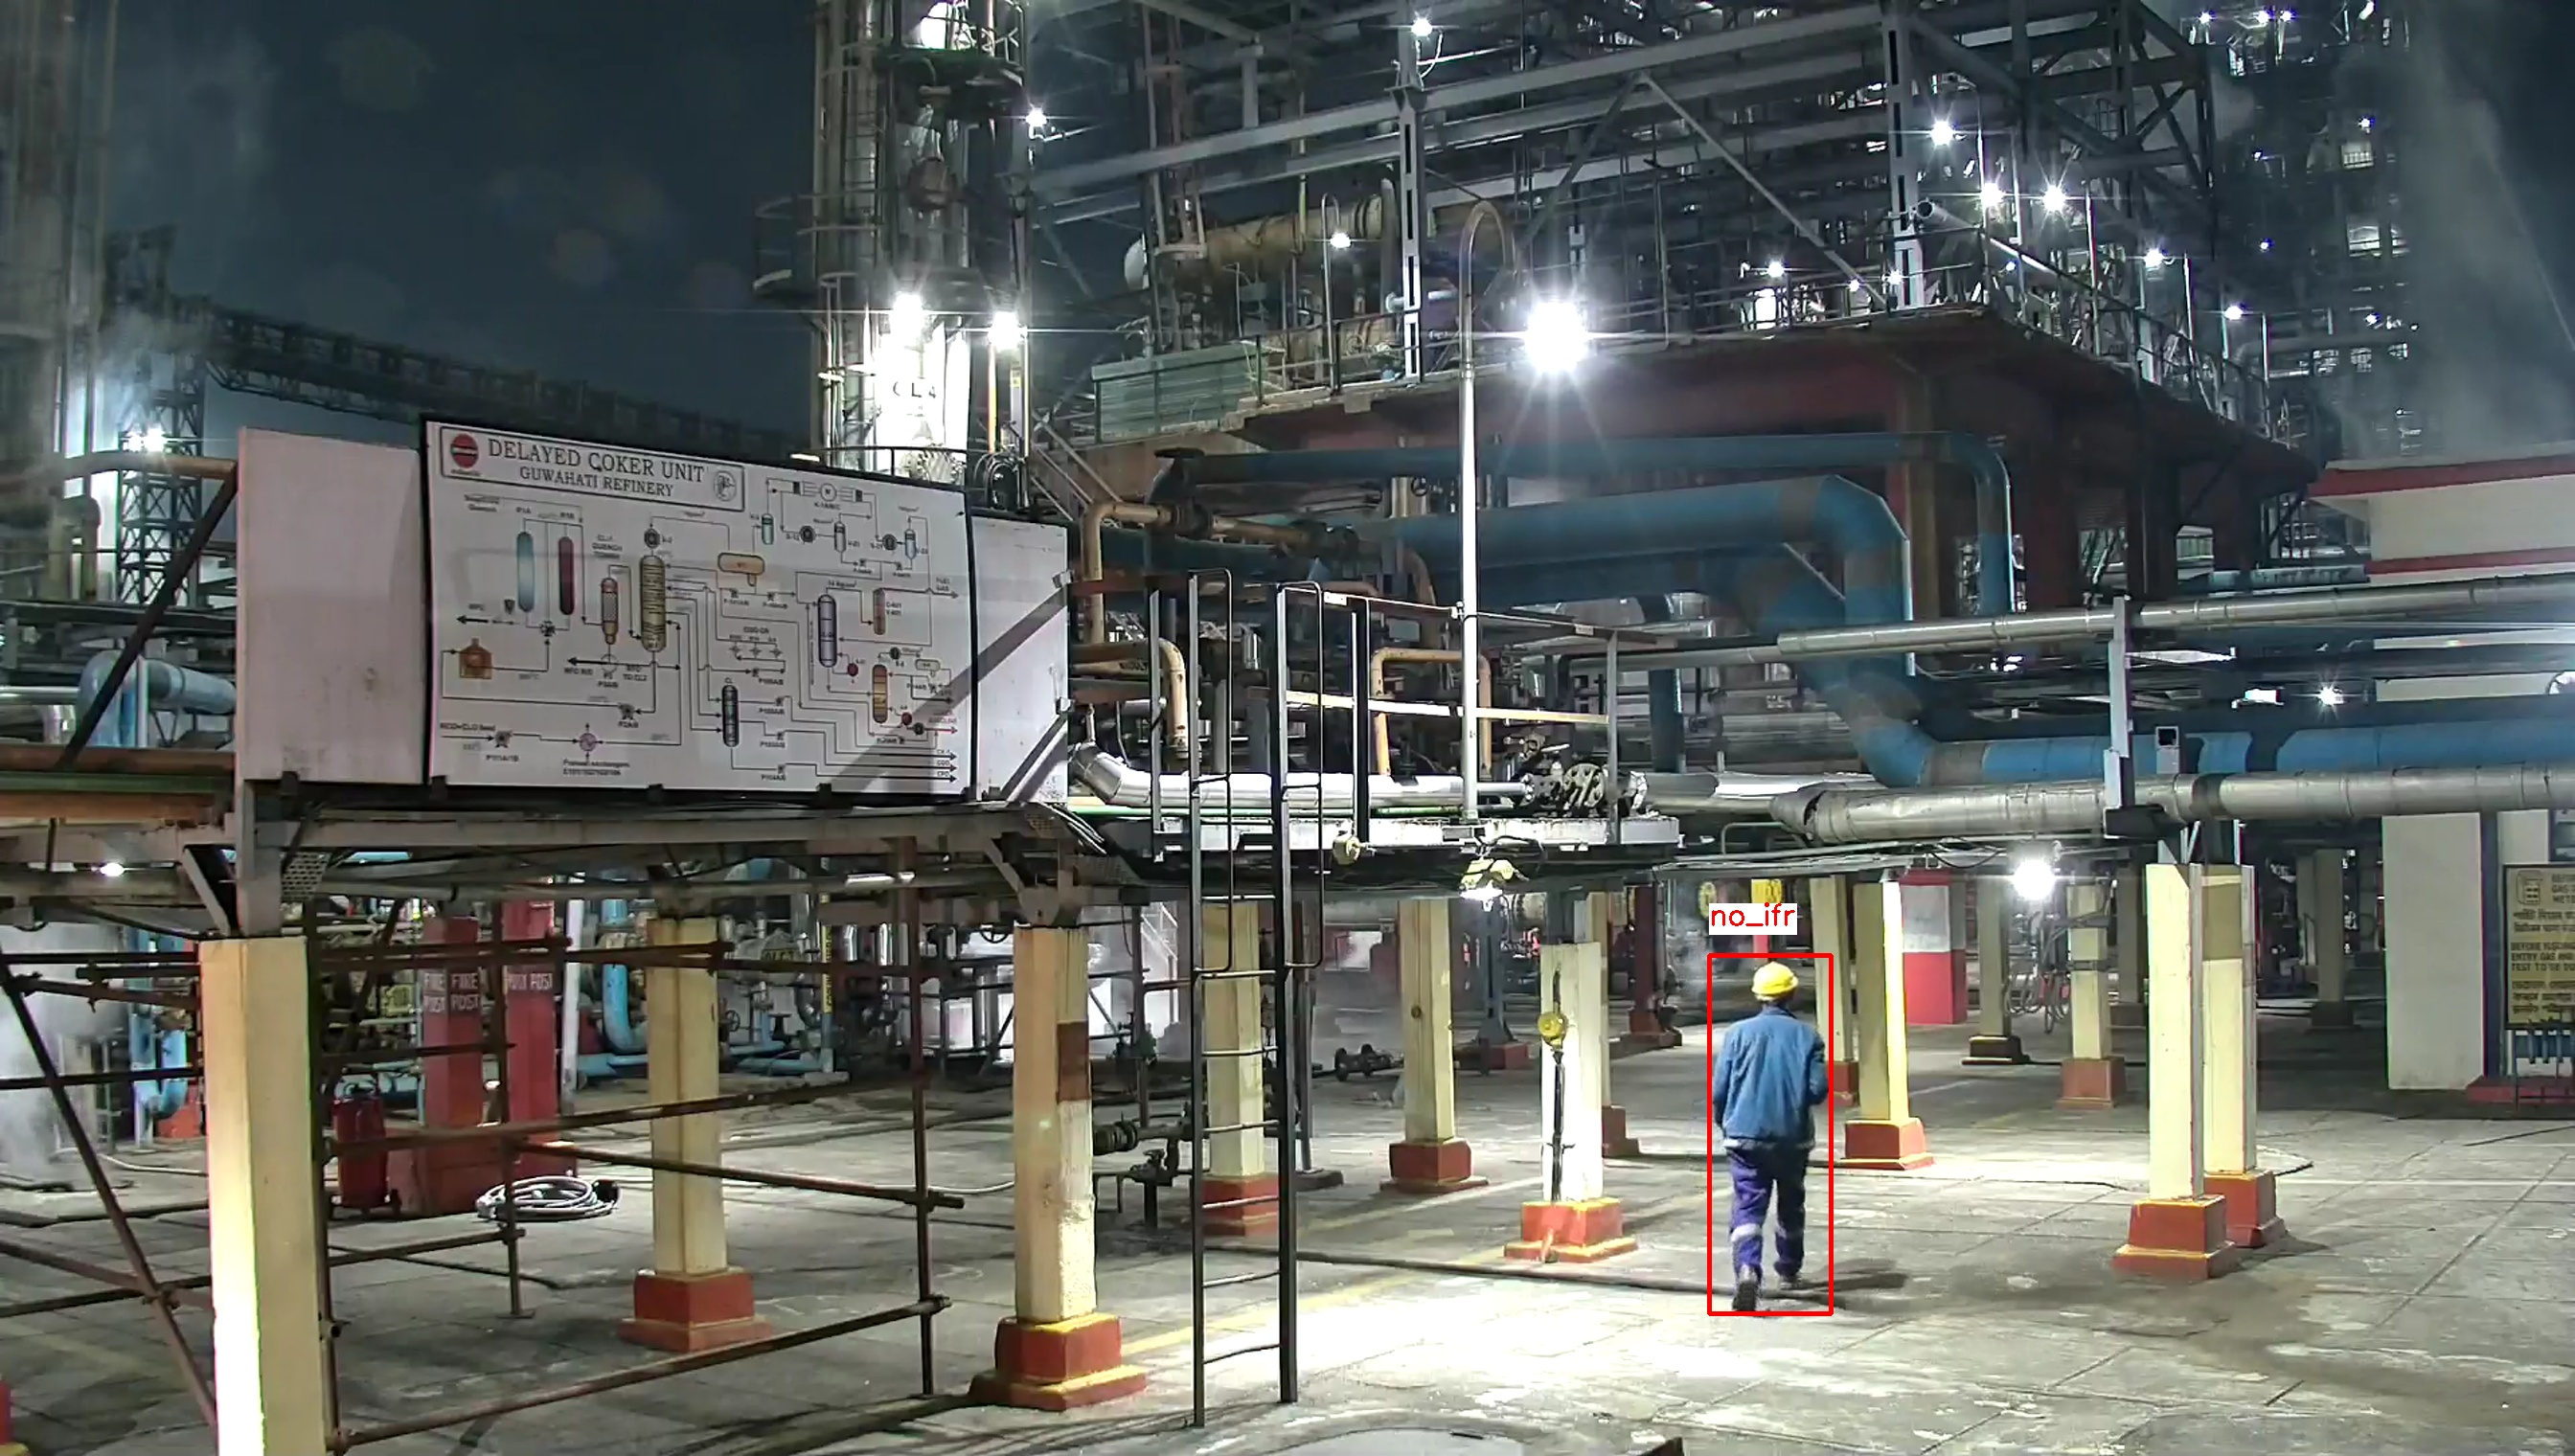Boots: (1731, 1260, 1763, 1314)
Helmets: (1751, 961, 1804, 1003)
